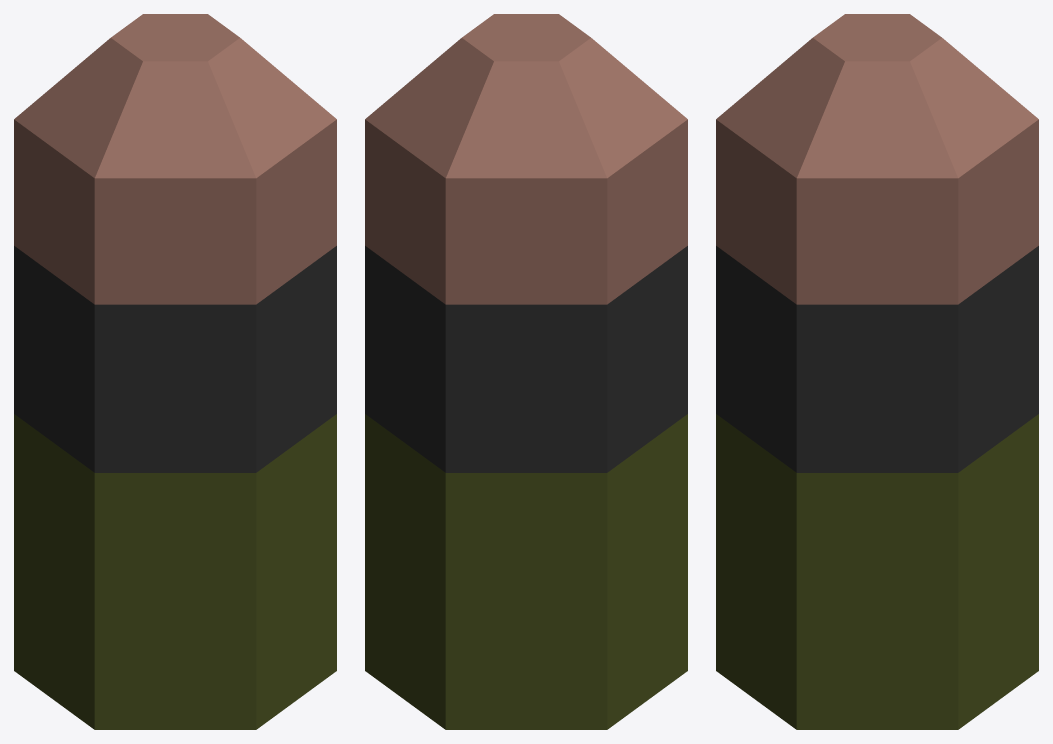
The model's file is M32_Grenade.fbx.
3 renders of one model, left to right at view 1: azimuth 30°, elevation 25°; view 2: azimuth 150°, elevation 25°; view 3: azimuth 270°, elevation 25°, orthographic.
Parts seen in each view (by area): view 1: M32_Grenade; view 2: M32_Grenade; view 3: M32_Grenade.
Boxes of the visible parts, box(x1,y1,x2,y2) form: M32_Grenade: box(14, 14, 336, 729); M32_Grenade: box(365, 14, 687, 729); M32_Grenade: box(716, 14, 1038, 729).
Bounding box in the file's own units: 3.25 × 8.11 × 3.75.
